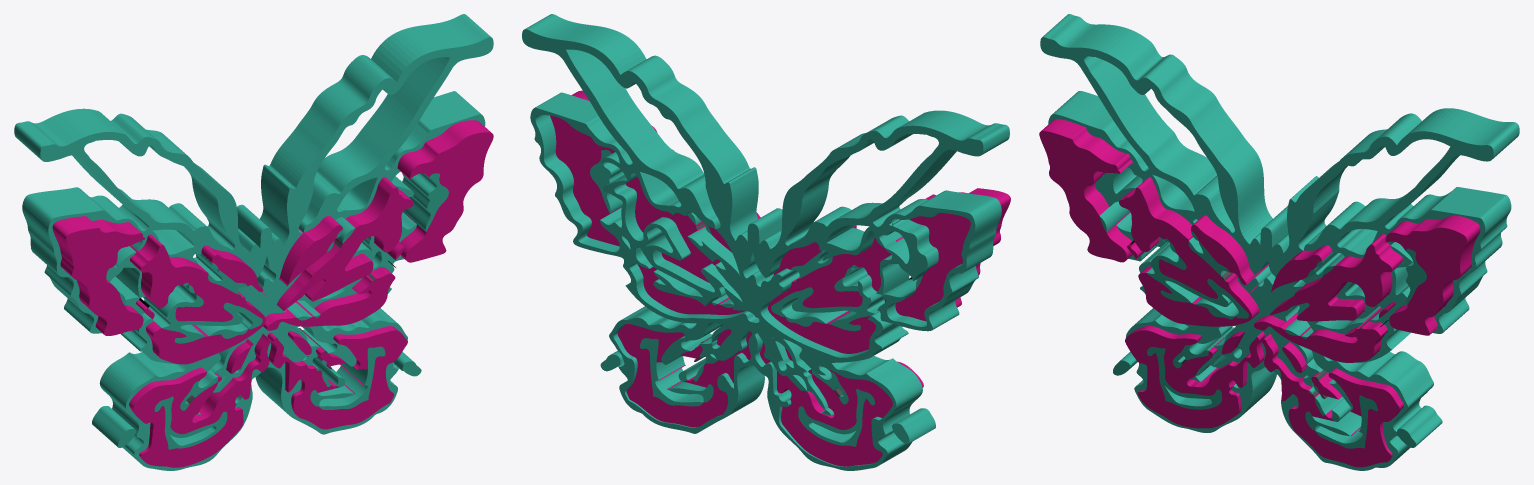
Rendered from butterfly.glb.
The picture shows the model from 3 angles, left to right: view 1: azimuth 30°, elevation 25°; view 2: azimuth 150°, elevation 25°; view 3: azimuth 330°, elevation 25°; orthographic projection.
Parts seen in each view (by area): view 1: Curve.033; view 2: Curve.033; view 3: Curve.033.
Part boxes in pixels (x1,y1,x2,y2): Curve.033: [14, 14, 493, 470]; Curve.033: [522, 14, 1010, 470]; Curve.033: [1039, 14, 1519, 470].
Bounding box in the file's own units: 0.2778 × 0.2118 × 0.0422.
